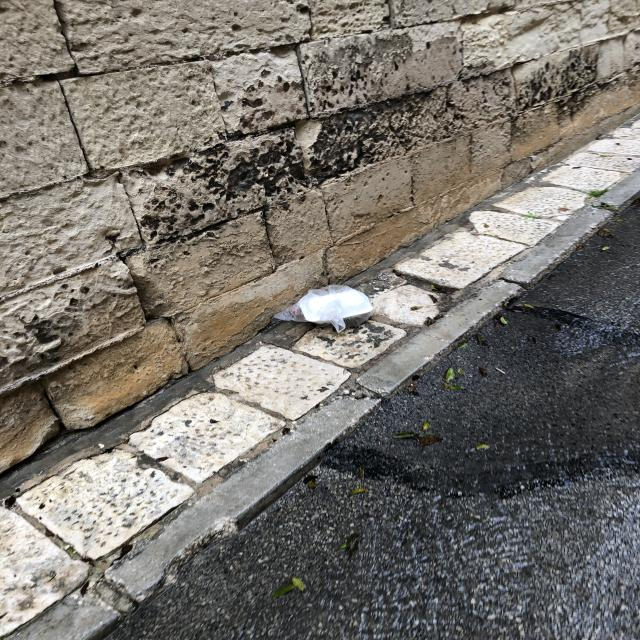Organic Waste -White Bag-: (274, 282, 379, 339)
